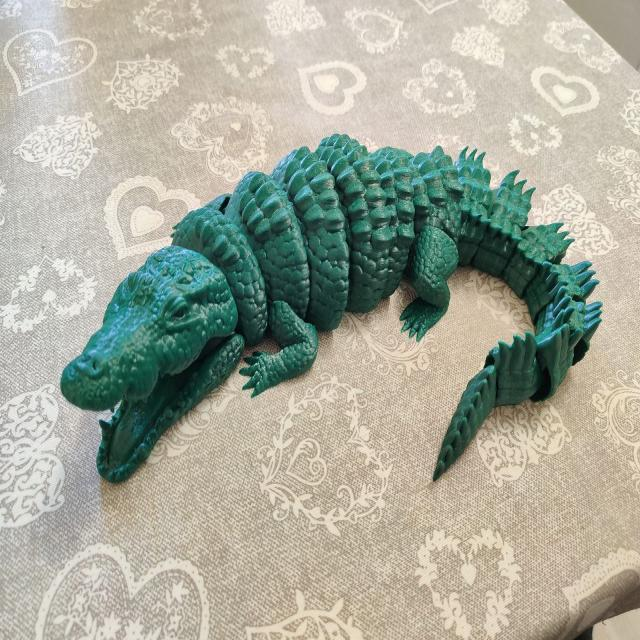Without deffect: (63, 121, 608, 527)
